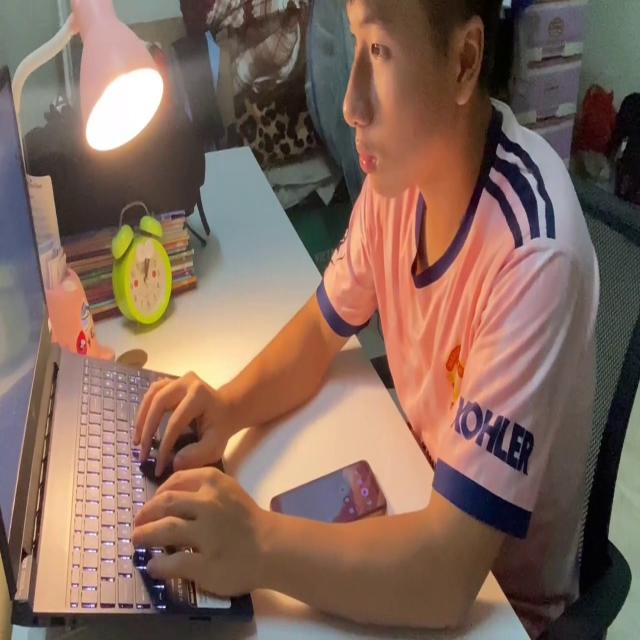laptop: (0, 61, 258, 628)
phone: (268, 446, 389, 532)
student: (141, 0, 598, 629)
